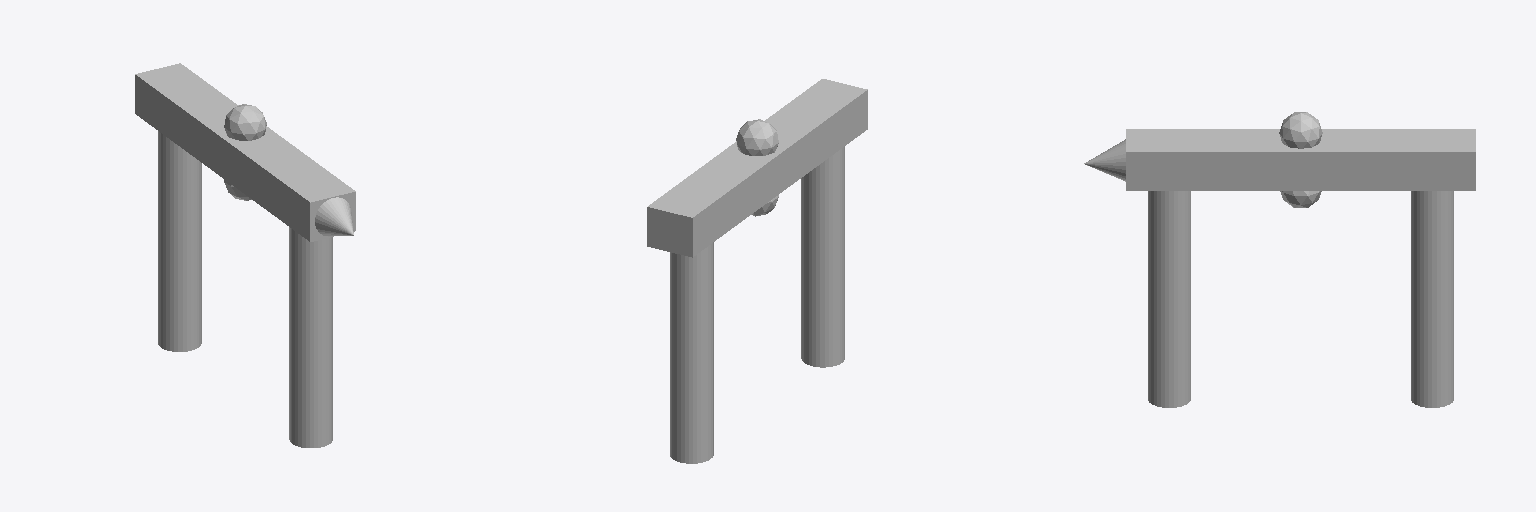
Rendered from arch.obj.
3 views of the same model, side by side, from view 1: azimuth 30°, elevation 25°; view 2: azimuth 150°, elevation 25°; view 3: azimuth 270°, elevation 25° (orthographic).
Visible parts, largest first — view 1: Cone; view 2: Cone; view 3: Cone.
Part boxes in pixels (x1,y1,x2,y2): Cone: (135,63,355,447); Cone: (647,79,867,463); Cone: (1084,112,1475,407).
Size of the model in its own units: 2.4 by 14.37 by 17.92.